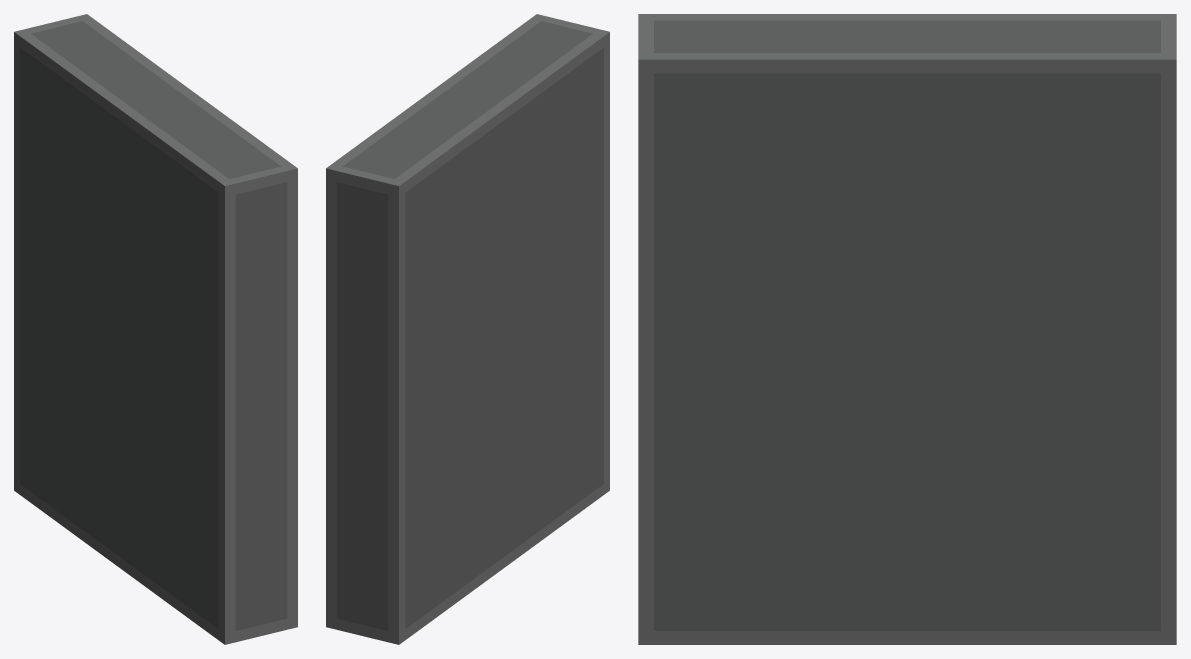
File: Wall_B_1_1.glb
3 views of the same model, side by side, from view 1: azimuth 30°, elevation 25°; view 2: azimuth 150°, elevation 25°; view 3: azimuth 270°, elevation 25° (orthographic). The views are drawn at different scales.
Parts seen in each view (by area): view 1: Wall_B_1_1; view 2: Wall_B_1_1; view 3: Wall_B_1_1.
Part boxes in pixels (left/top/right/bottom): Wall_B_1_1: left=14, top=14, right=297, bottom=644; Wall_B_1_1: left=326, top=14, right=609, bottom=644; Wall_B_1_1: left=638, top=14, right=1176, bottom=644.
Bounding box in the file's own units: 0.4 × 2.4 × 2.
Materials: 1 (1 with a texture image).
